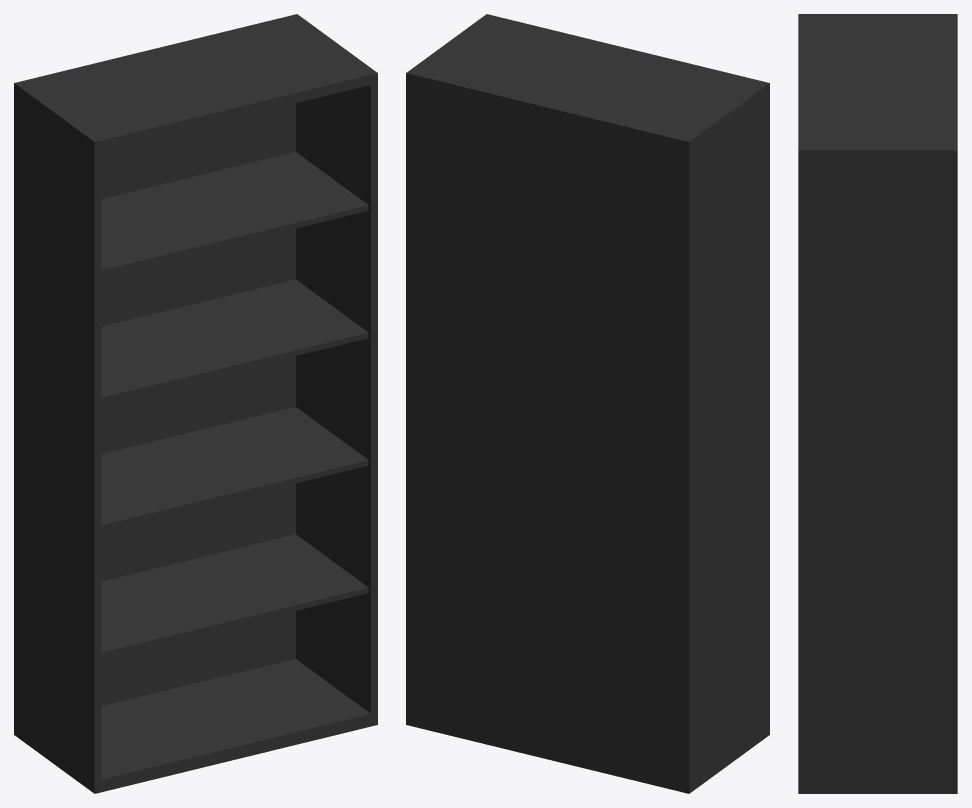
The model's file is Simple_Library.obj.
3 views of the same model, side by side, from view 1: azimuth 30°, elevation 25°; view 2: azimuth 150°, elevation 25°; view 3: azimuth 270°, elevation 25° (orthographic).
Visible parts, largest first — view 1: Simple_Library; view 2: Simple_Library; view 3: Simple_Library.
Boxes of the visible parts, <box> form: Simple_Library: <box>14,14,377,793</box>; Simple_Library: <box>406,14,769,793</box>; Simple_Library: <box>798,14,957,793</box>.
Bounding box in the file's own units: 0.9181 × 2.02 × 0.4532.
